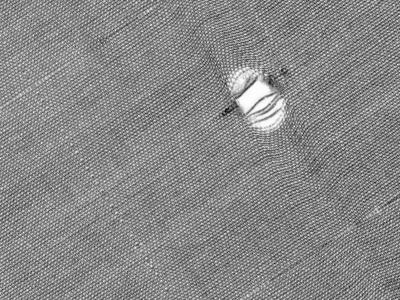hole: (220, 65, 290, 137)
